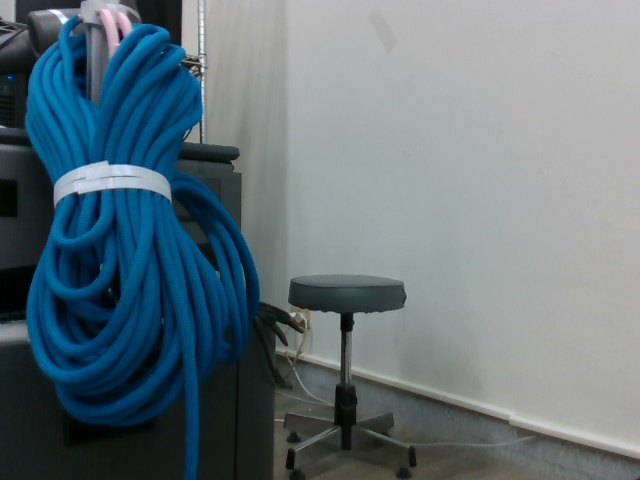rope: (22, 21, 260, 429)
